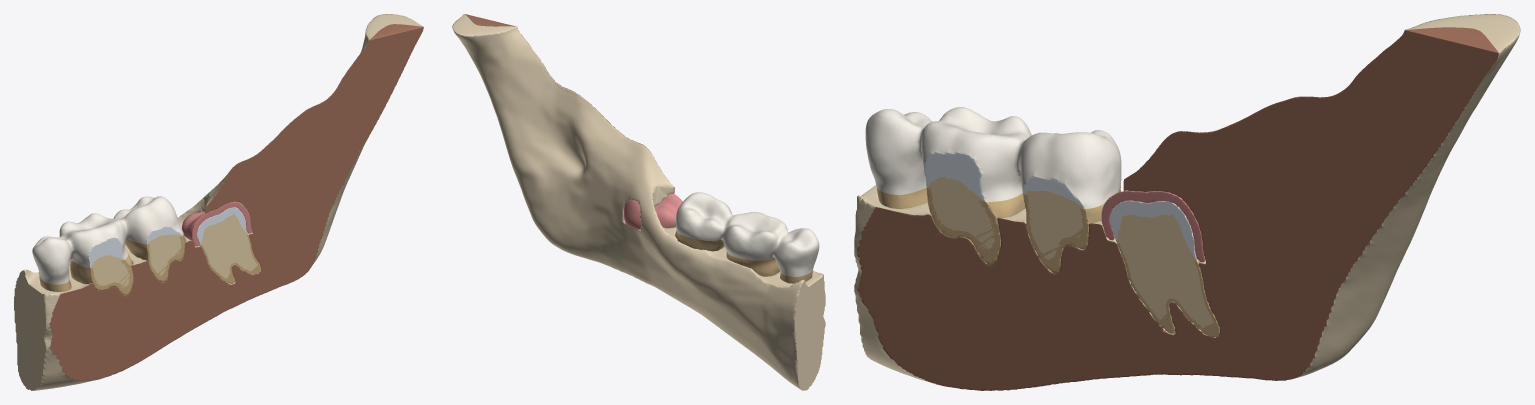
File: normal-cut.glb
3 renders of one model, left to right at view 1: azimuth 30°, elevation 25°; view 2: azimuth 150°, elevation 25°; view 3: azimuth 330°, elevation 25°, orthographic. The views are drawn at different scales.
Visible parts, largest first — view 1: bone, teeth, follicle; view 2: bone, teeth, follicle; view 3: bone, teeth, follicle.
Part boxes in pixels (box(x1,y1,x2,y2)): bone: box(14, 14, 423, 390); teeth: box(32, 196, 260, 295); follicle: box(182, 201, 252, 246); bone: box(452, 14, 825, 390); teeth: box(675, 192, 819, 283); follicle: box(624, 193, 682, 229); bone: box(854, 14, 1520, 390); teeth: box(865, 107, 1219, 336); follicle: box(1101, 190, 1205, 262).
Bounding box in the file's own units: 81.85 × 59.04 × 12.4.
